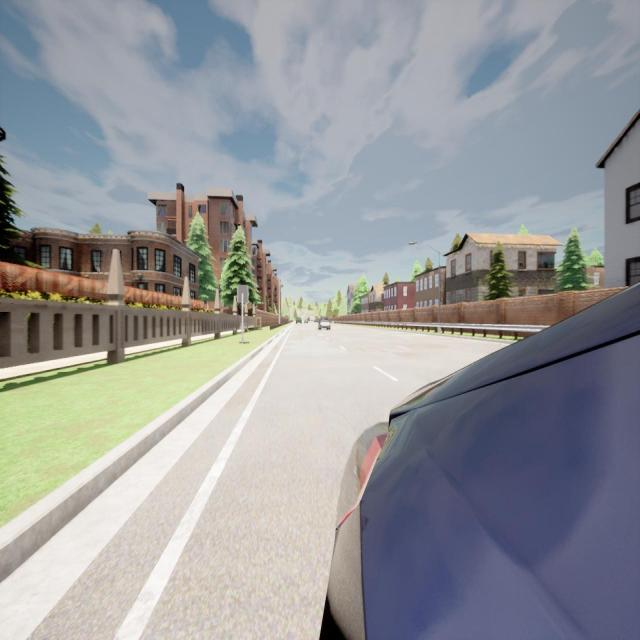Traffic_Signs: (237, 286, 248, 303)
Vehicle: (328, 284, 640, 637), (317, 316, 330, 331), (295, 317, 302, 324), (304, 319, 308, 324), (314, 319, 318, 323)
